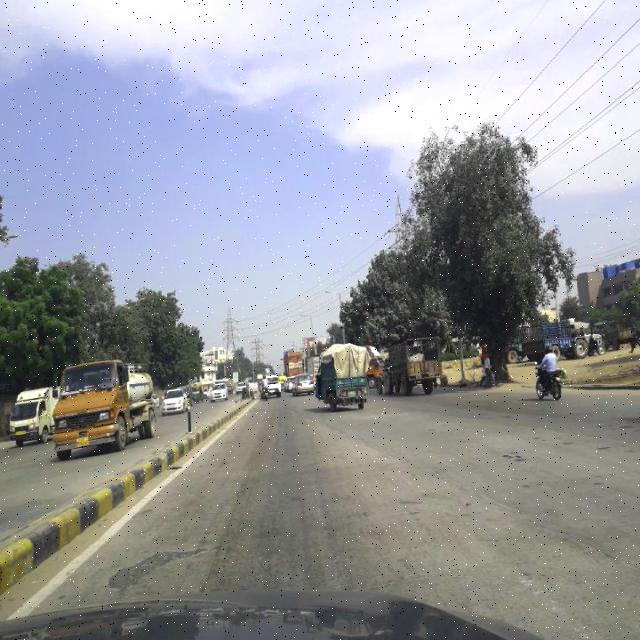D44: (462, 523, 612, 615)
